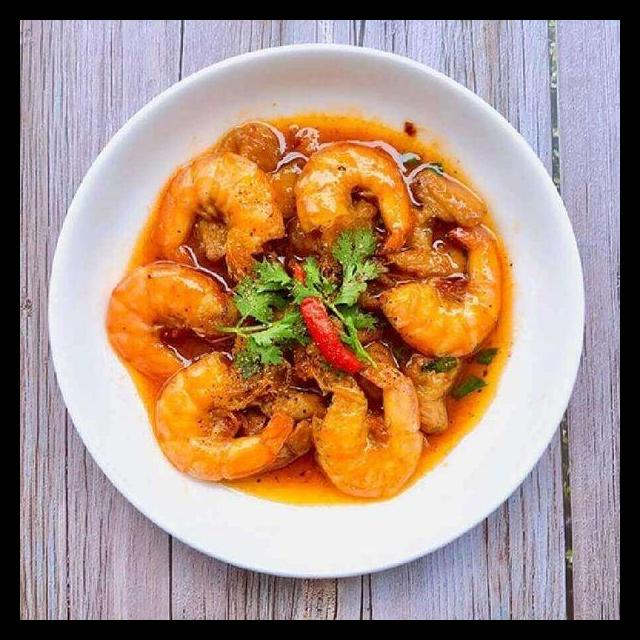tom: (151, 348, 303, 489), (300, 340, 425, 504), (149, 147, 292, 283), (104, 256, 251, 386), (375, 218, 507, 362), (292, 138, 420, 259)
